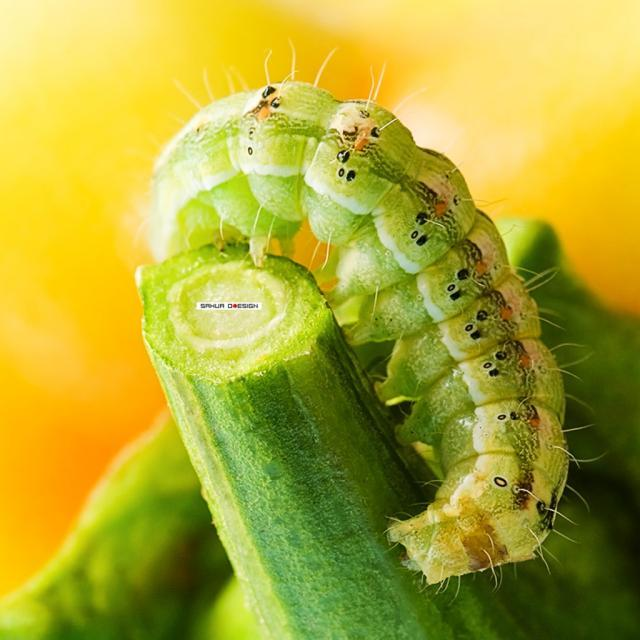Zucchini: (136, 233, 550, 639)
